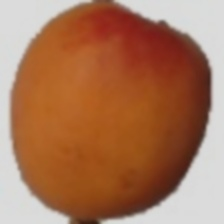apricot: (24, 10, 222, 192)
